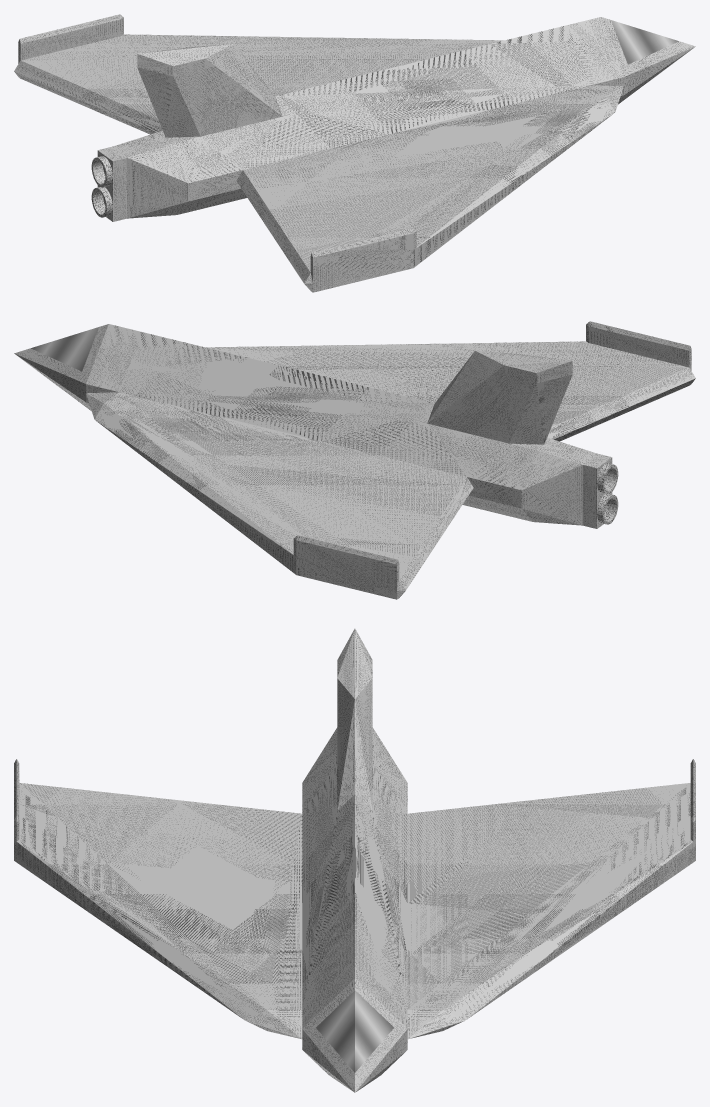
3 views of the same model, one above another, from view 1: azimuth 30°, elevation 25°; view 2: azimuth 150°, elevation 25°; view 3: azimuth 270°, elevation 25° (orthographic). The views are drawn at different scales.
Visible parts, largest first — view 1: mesh1_mesh1-geometry; view 2: mesh1_mesh1-geometry; view 3: mesh1_mesh1-geometry.
Boxes of the visible parts, box(x1,y1,x2,y2) form: mesh1_mesh1-geometry: box(14, 14, 695, 292); mesh1_mesh1-geometry: box(14, 321, 695, 599); mesh1_mesh1-geometry: box(14, 628, 695, 1092).
Bounding box in the file's own units: 0.746 × 0.191 × 0.6379.
